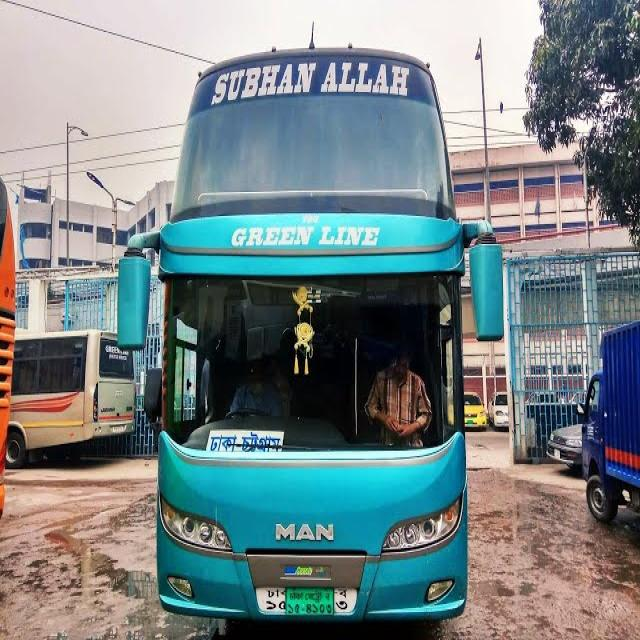Double decker: (115, 37, 508, 639)
